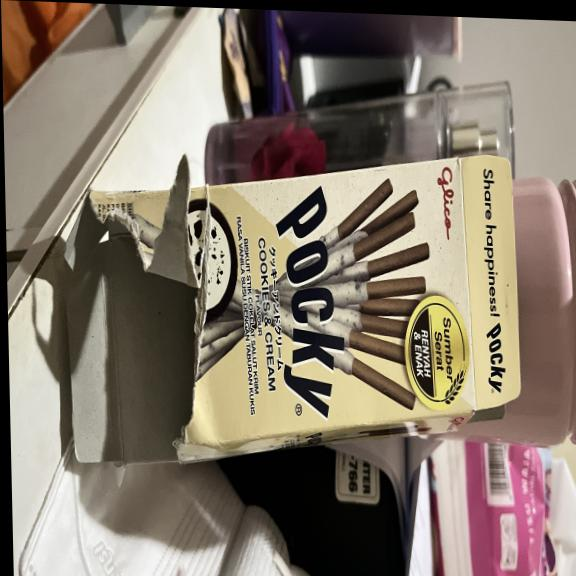Kertas: (92, 159, 473, 464)
